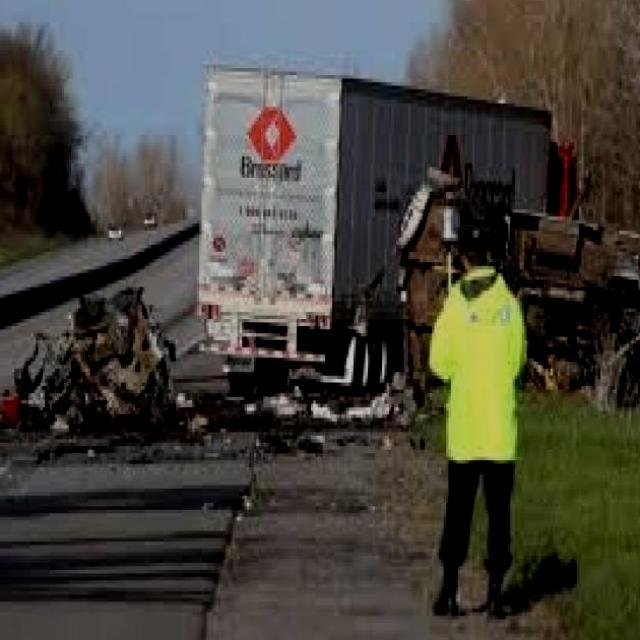accident: (387, 155, 640, 396), (9, 274, 183, 446)
